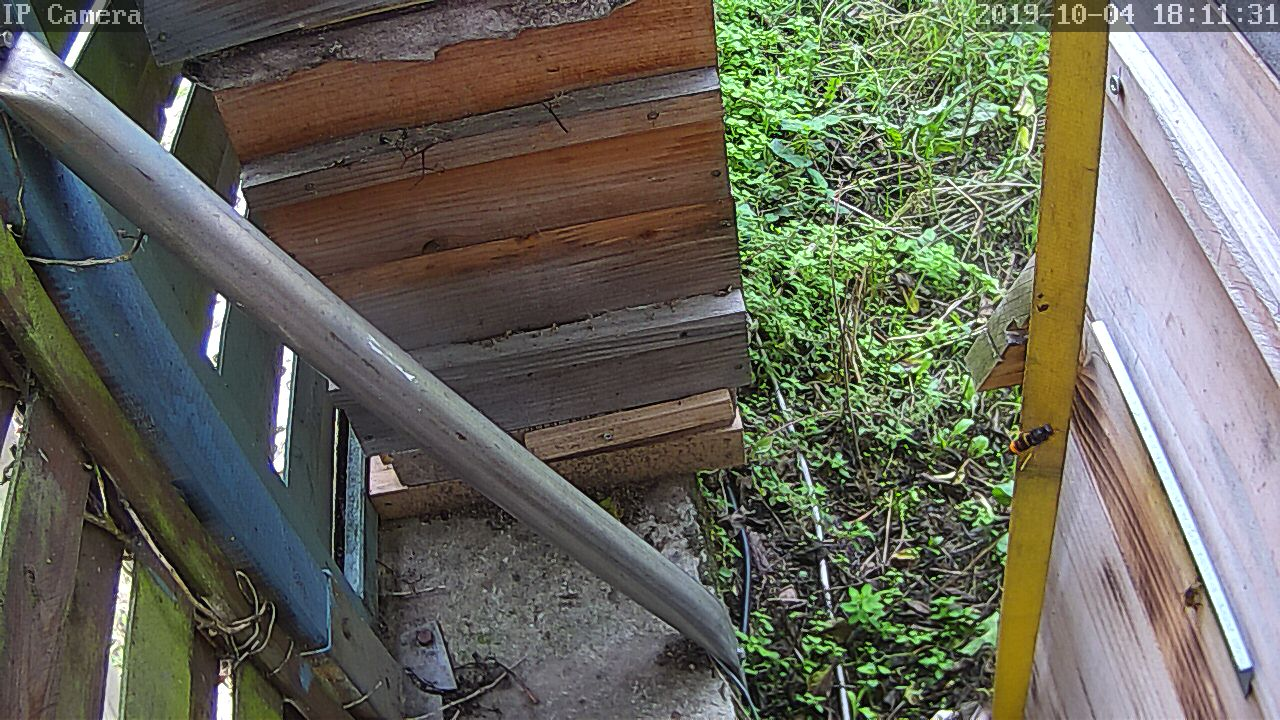bee: (1177, 579, 1212, 621)
hornet: (1003, 413, 1062, 464)
